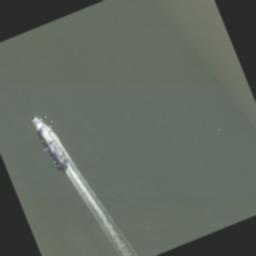boat: (30, 109, 70, 172)
